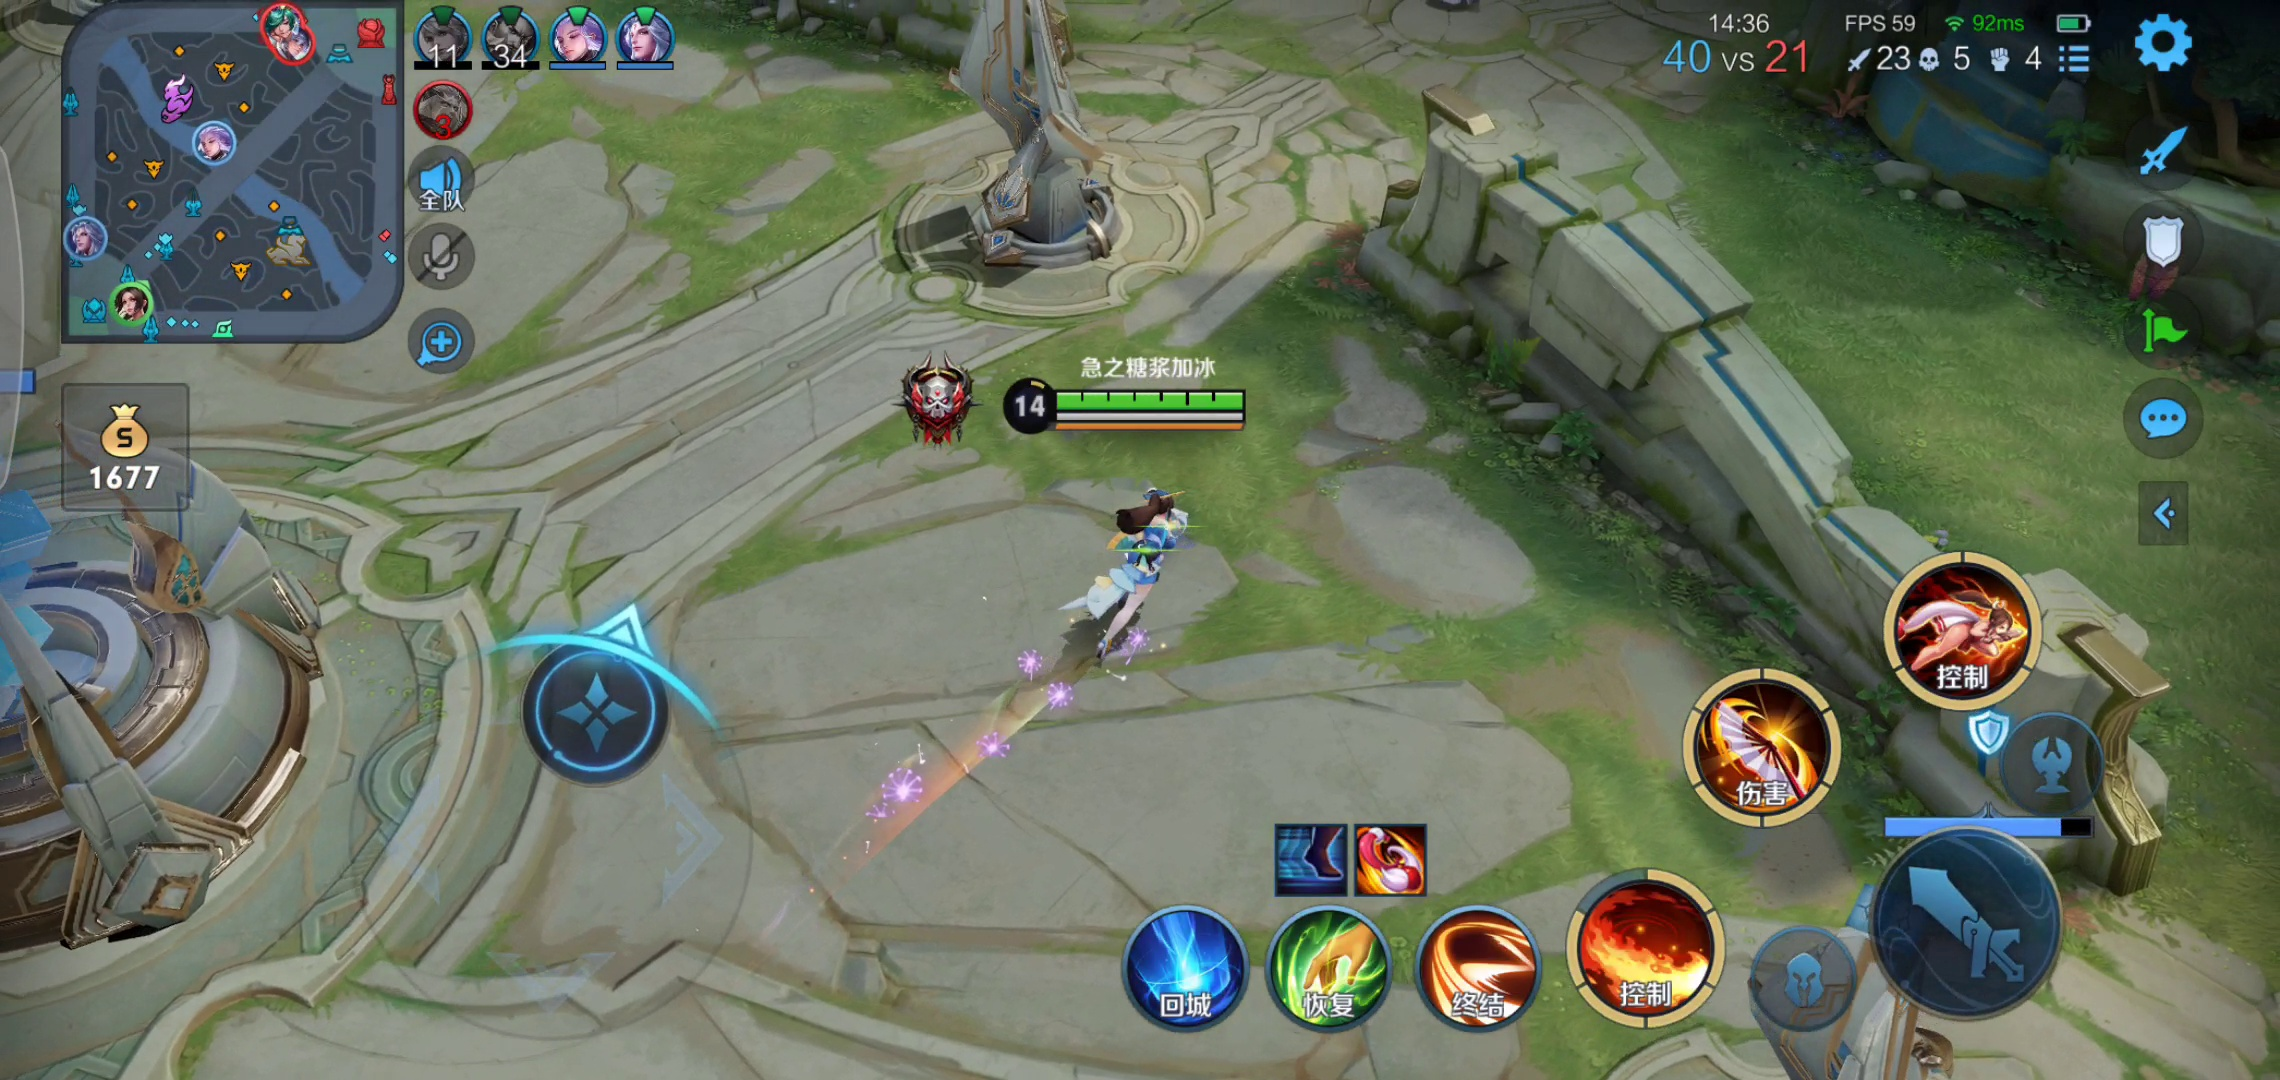crystal: (1, 461, 326, 972)
hero: (1061, 472, 1192, 685)
tower: (934, 1, 1134, 276), (1757, 850, 1967, 1079)
